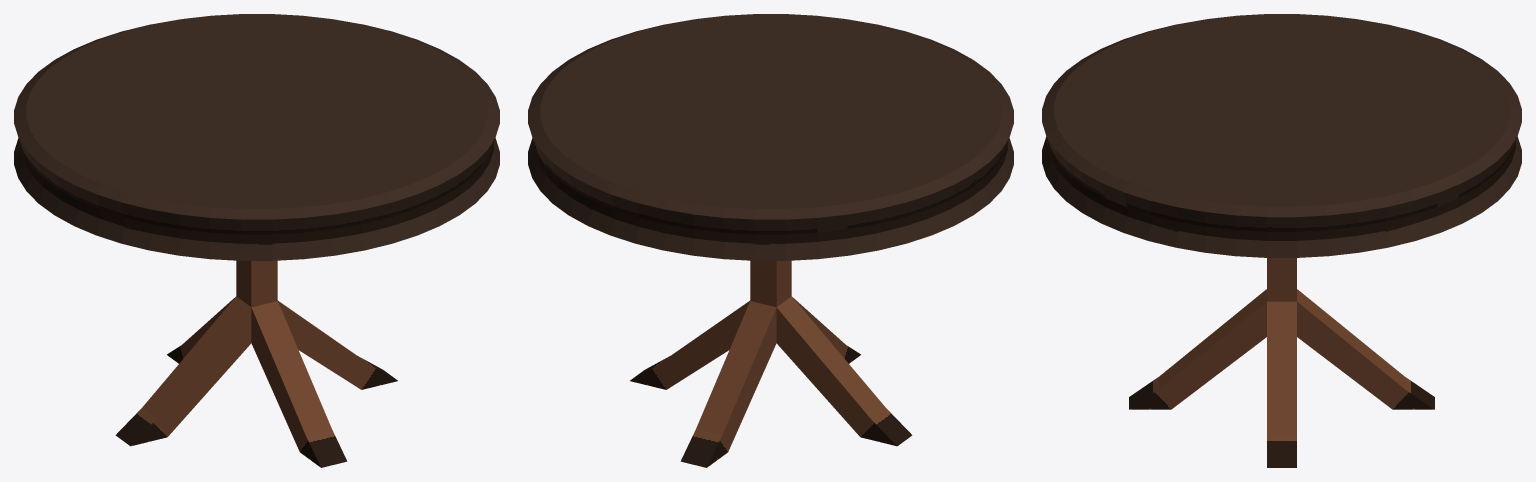
File: roundTable.gltf
The picture shows the model from 3 angles, left to right: view 1: azimuth 30°, elevation 25°; view 2: azimuth 150°, elevation 25°; view 3: azimuth 270°, elevation 25°; orthographic projection.
Parts seen in each view (by area): view 1: cylinder, cube (×5); view 2: cylinder, cube (×5); view 3: cylinder, cube (×4).
Part boxes in pixels (<box>): cylinder: <box>14,14,499,260</box>; cube (×5): <box>115,260,397,467</box>; cylinder: <box>528,14,1013,260</box>; cube (×5): <box>630,260,912,467</box>; cylinder: <box>1042,14,1521,257</box>; cube (×4): <box>1129,258,1434,467</box>.
Bounding box in the file's own units: 1 × 0.6739 × 1.
1 material, 1 textured.
